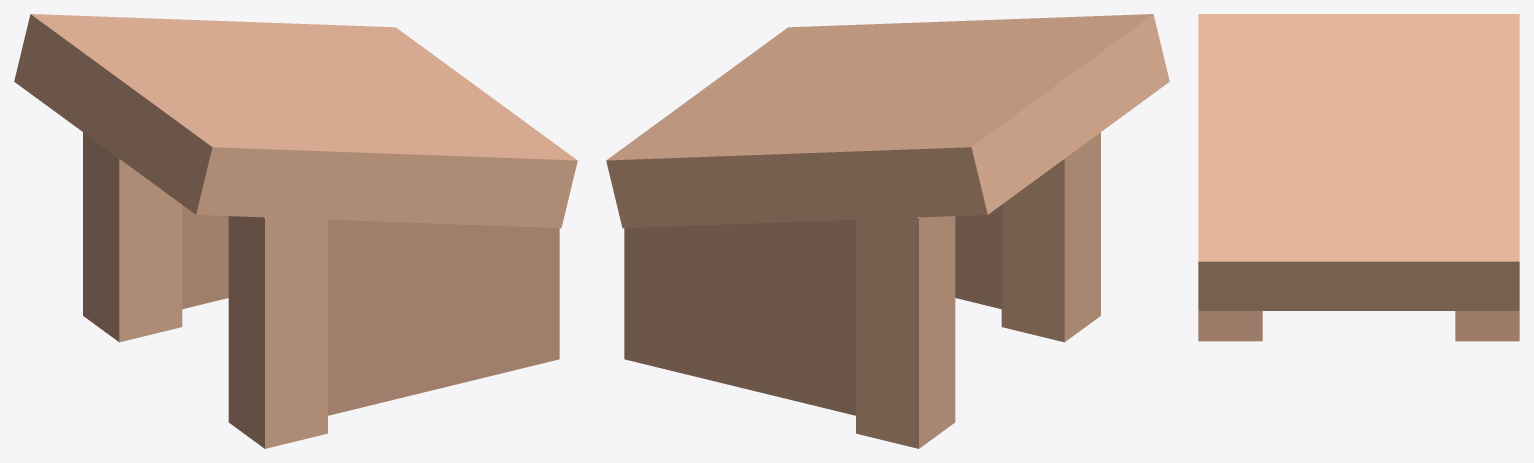
The model's file is Minelvl1.fbx.
The picture shows the model from 3 angles, left to right: view 1: azimuth 30°, elevation 25°; view 2: azimuth 150°, elevation 25°; view 3: azimuth 270°, elevation 25°; orthographic projection. The views are drawn at different scales.
Visible parts, largest first — view 1: Mine; view 2: Mine; view 3: Mine.
Boxes of the visible parts, bbox=[...] form: Mine: bbox=[14, 14, 577, 448]; Mine: bbox=[606, 14, 1169, 448]; Mine: bbox=[1198, 14, 1519, 341].
Size of the model in its own units: 30.27 by 23.84 by 25.
